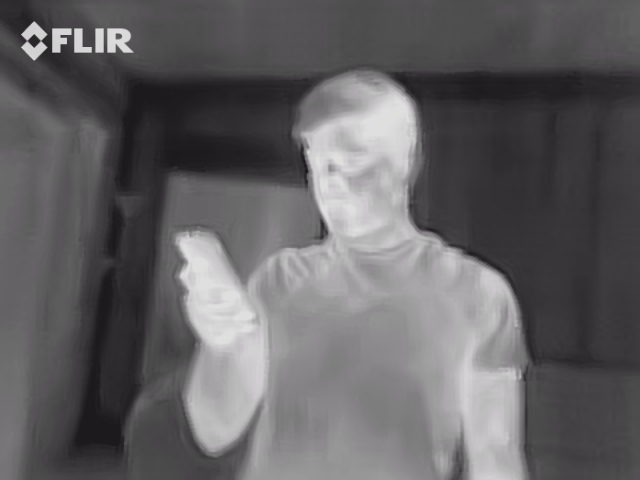head: (294, 68, 422, 237)
